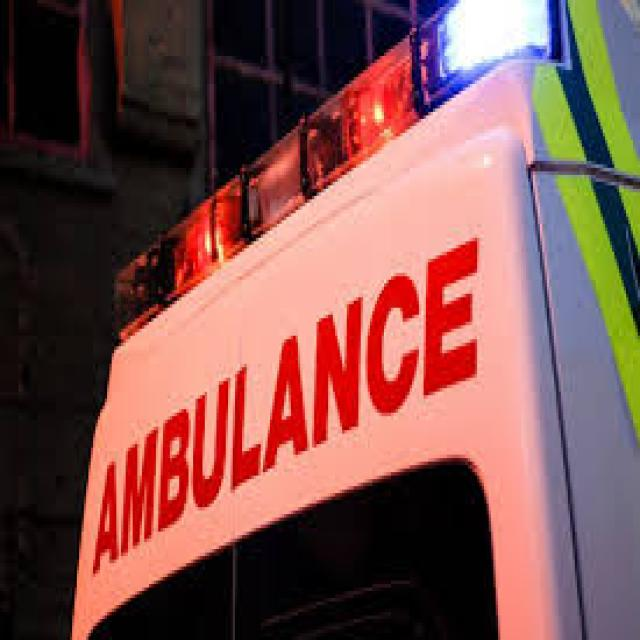Ambulance: (72, 199, 526, 584)
